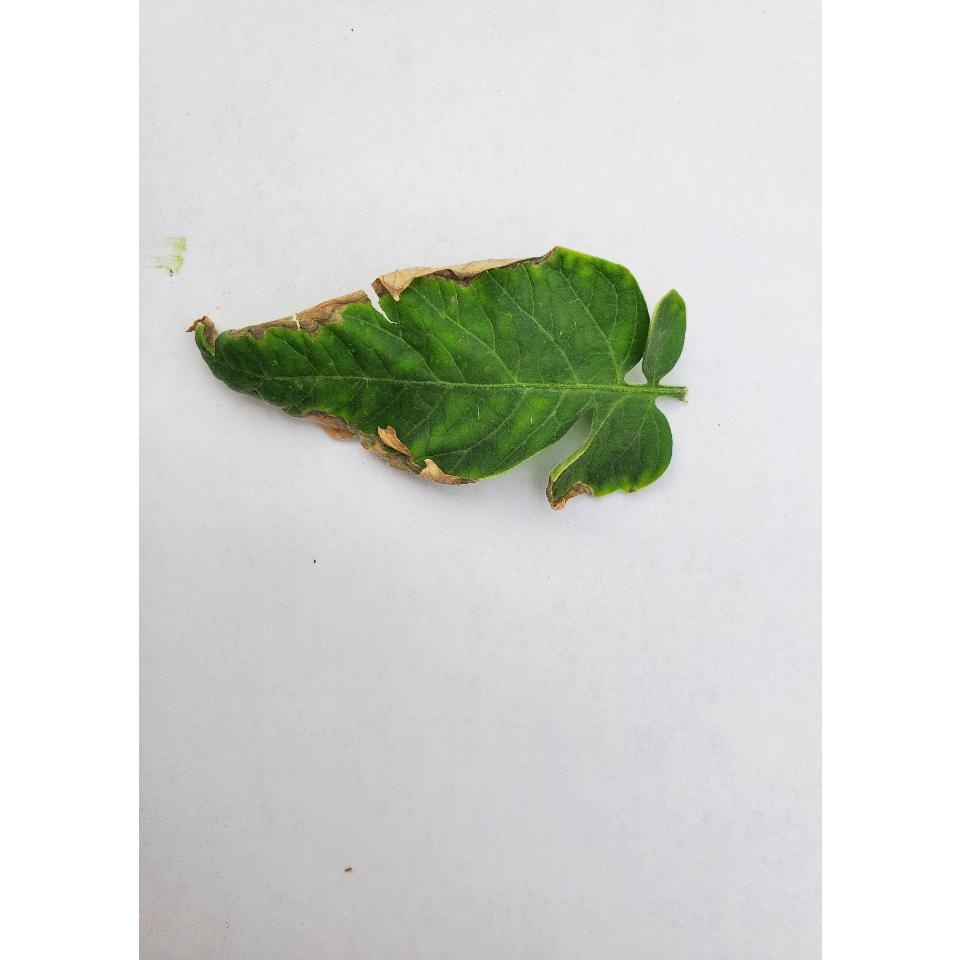tomato_bacterial_blight: (178, 241, 694, 502)
